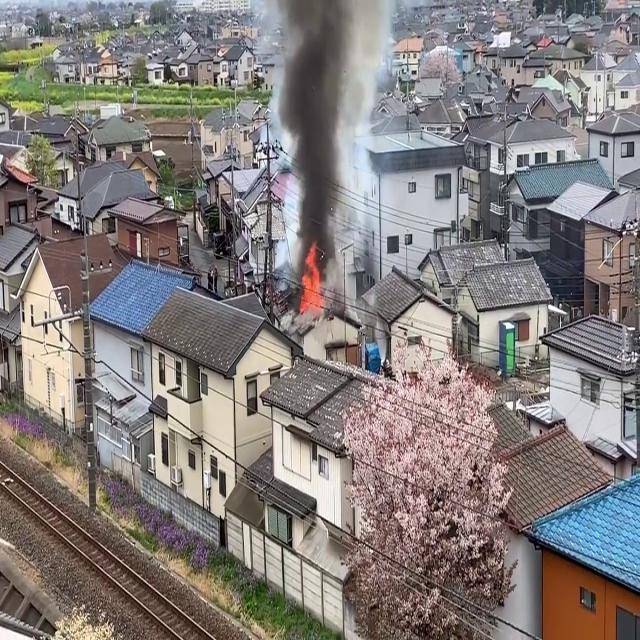Fire: (297, 244, 327, 317)
Smoke: (273, 0, 375, 277)
